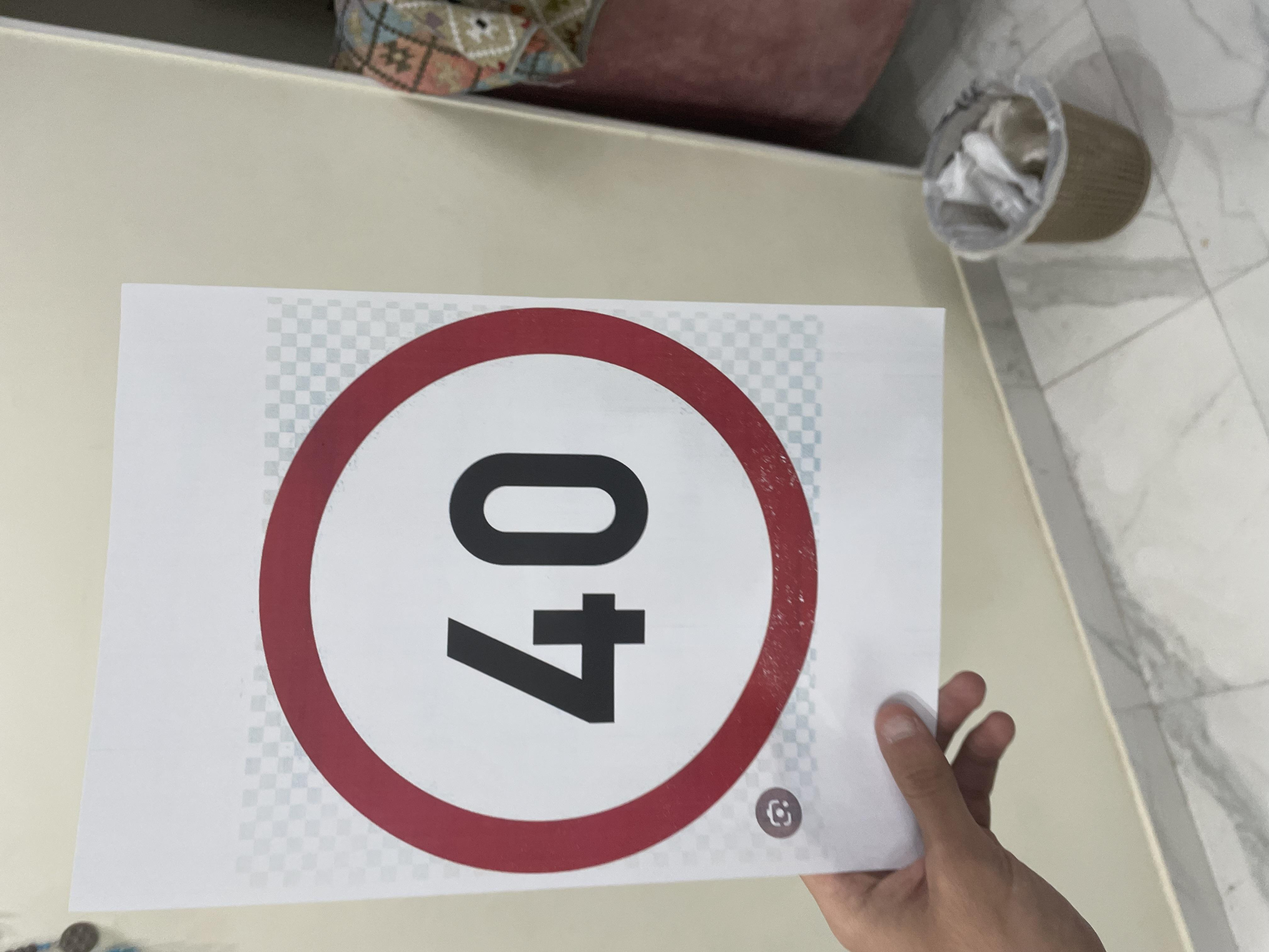40-Speed: (76, 185, 882, 615)
